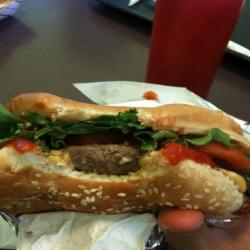burger: (1, 93, 250, 226)
